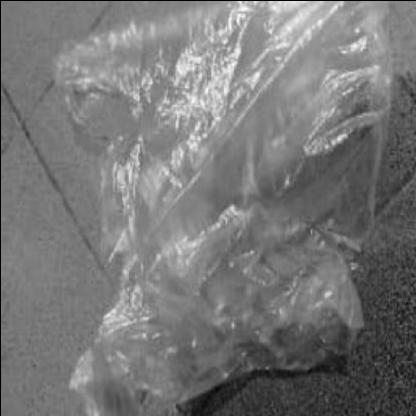objects: (62, 0, 374, 414)
